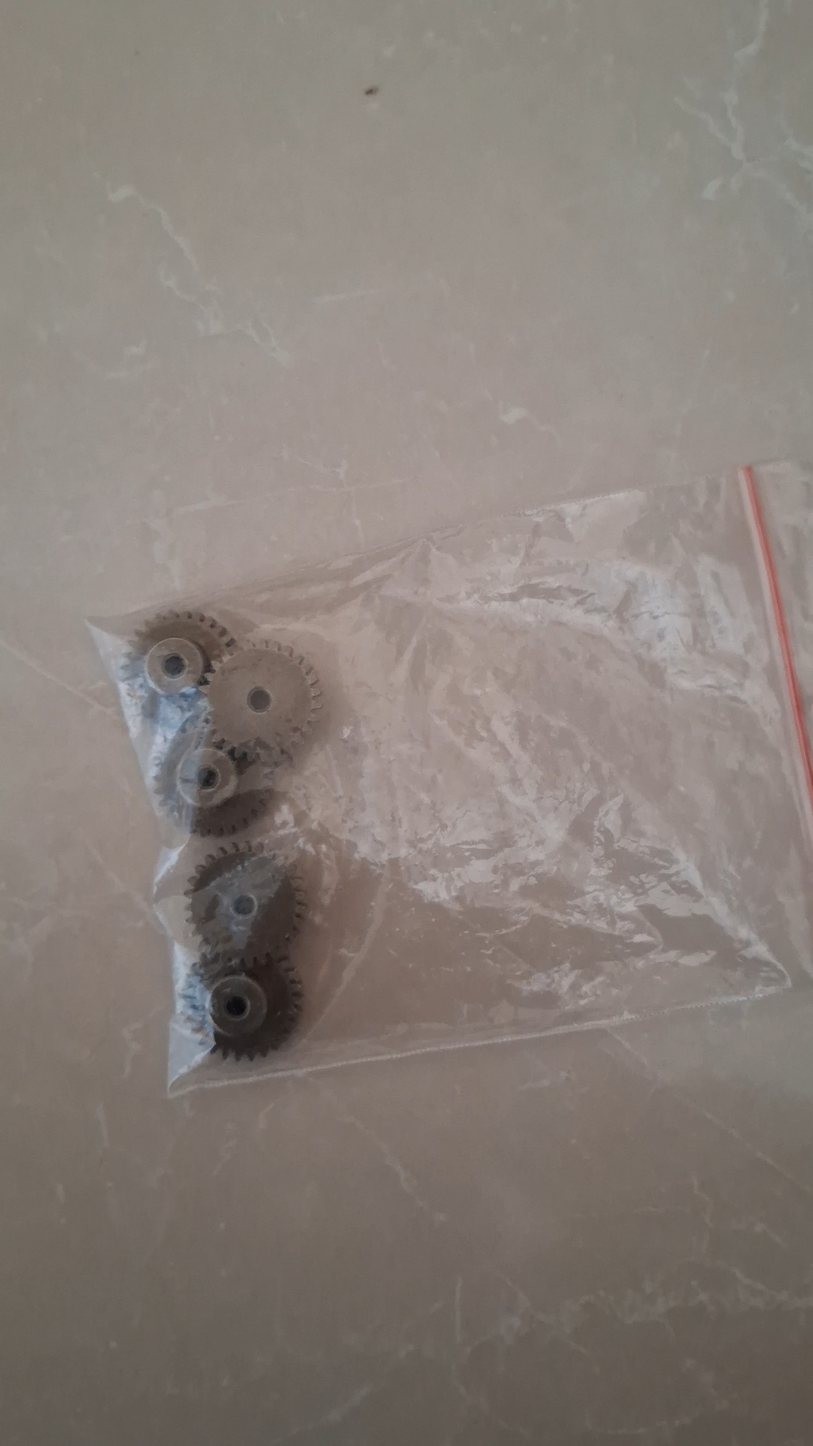spur gear: (154, 712, 271, 837), (202, 640, 321, 756), (186, 844, 304, 957), (207, 955, 302, 1059), (131, 610, 237, 694)
